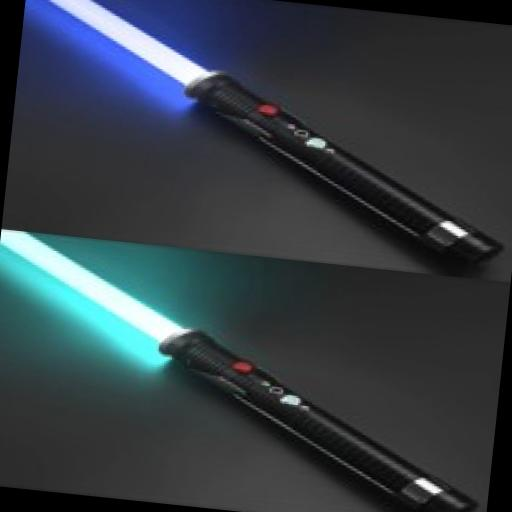lightsaber: (0, 229, 500, 512), (5, 0, 512, 273)
